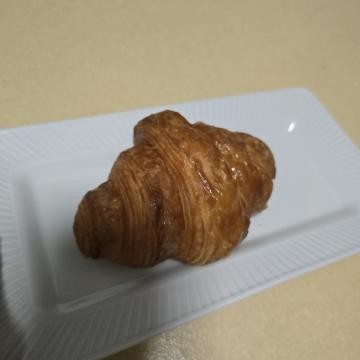croissant: (101, 75, 276, 302)
